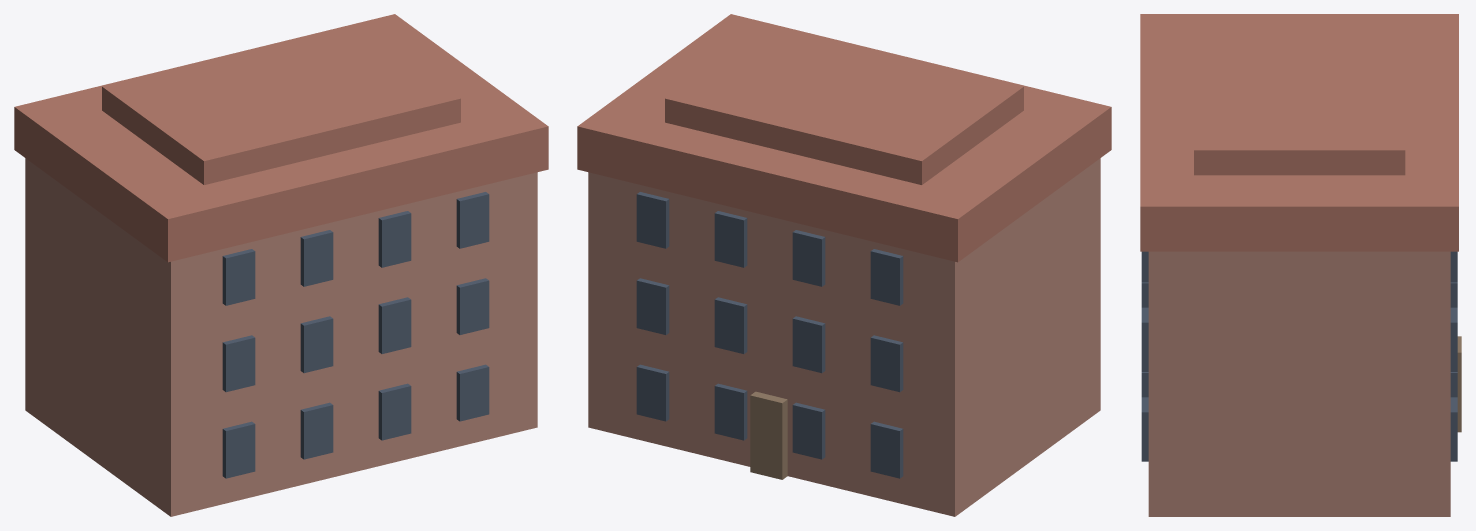
The model's file is house_c.glb.
3 views of the same model, side by side, from view 1: azimuth 30°, elevation 25°; view 2: azimuth 150°, elevation 25°; view 3: azimuth 270°, elevation 25° (orthographic). The views are drawn at different scales.
Parts seen in each view (by area): view 1: walls, roof, ridge, win.017, win.018, win.016, win.012, win.019, win.020, win.023, win.013, win.014 (+3 smaller); view 2: walls, roof, ridge, door, win.005, win.006, win.004, win, win.007, win.008, win.011, win.001 (+4 smaller); view 3: walls, roof, ridge, win.003, win.015, win.007, win.019, door.
Part boxes in pixels (box(x1,y1,x2,y2)): walls: box(25, 158, 537, 516); roof: box(14, 14, 548, 262); ridge: box(102, 24, 460, 184); win.017: box(300, 316, 333, 373); win.018: box(378, 297, 411, 353); win.016: box(222, 335, 255, 392); win.012: box(222, 421, 255, 478); win.019: box(456, 278, 489, 334); win.020: box(222, 249, 255, 305); win.023: box(456, 192, 489, 248); win.013: box(300, 402, 333, 459); win.014: box(378, 383, 411, 440); walls: box(588, 158, 1100, 516); roof: box(577, 14, 1111, 262); ridge: box(665, 24, 1023, 184); door: box(750, 391, 787, 479); win.005: box(792, 316, 825, 373); win.006: box(714, 297, 747, 353); win.004: box(870, 335, 903, 392); win: box(870, 421, 903, 478); win.007: box(636, 278, 669, 334); win.008: box(870, 249, 903, 305); win.011: box(636, 192, 669, 248); win.001: box(792, 402, 825, 459); walls: box(1148, 251, 1450, 516); roof: box(1140, 14, 1458, 251); ridge: box(1194, 20, 1405, 175); win.003: box(1450, 397, 1457, 461); win.015: box(1141, 397, 1148, 461); win.007: box(1450, 307, 1457, 371); win.019: box(1141, 307, 1148, 371); door: box(1457, 336, 1461, 432).
Bounding box in the file's own units: 16.6 × 13.6 × 11.7.
